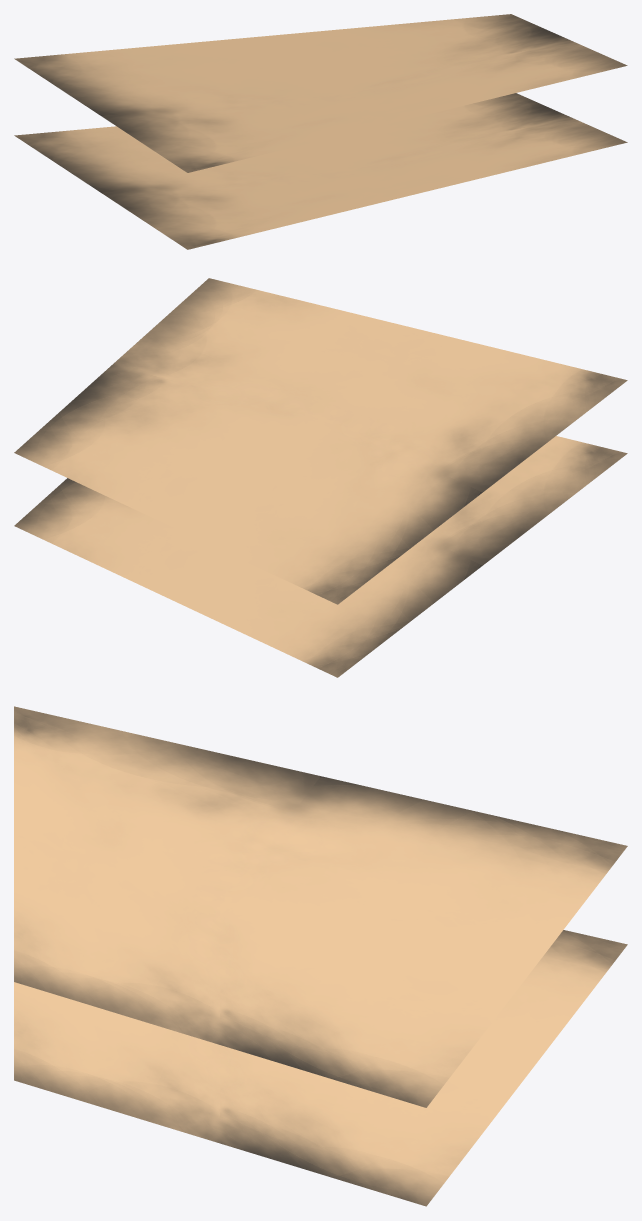
The model's file is CourseSummer_CurveFloor_7_1.fbx.
The picture shows the model from 3 angles, top to bottom: view 1: azimuth 30°, elevation 25°; view 2: azimuth 150°, elevation 25°; view 3: azimuth 270°, elevation 25°; orthographic projection. The views are drawn at different scales.
Visible parts, largest first — view 1: polySurface367; view 2: polySurface367; view 3: polySurface367.
Boxes of the visible parts, left/top/right/bottom form: polySurface367: left=14, top=14, right=627, bottom=249; polySurface367: left=14, top=278, right=627, bottom=677; polySurface367: left=14, top=706, right=627, bottom=1206.
Bounding box in the file's own units: 6.6 × 2 × 5.65.
1 material, 1 textured.
